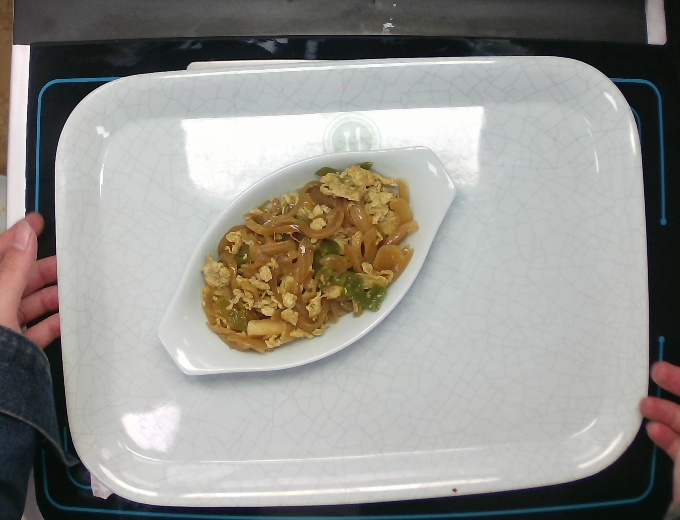JYsf-Yu_Pan: (150, 142, 460, 380)
